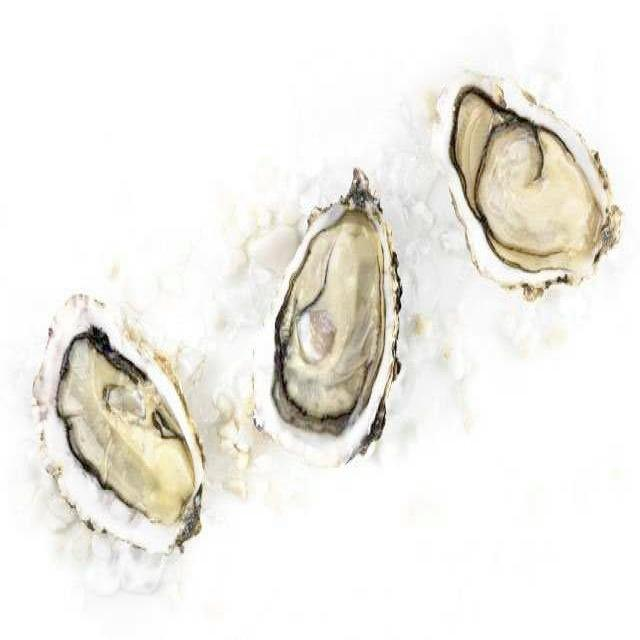Oyster-Open: (34, 294, 205, 554), (252, 169, 401, 466), (432, 72, 621, 301)
